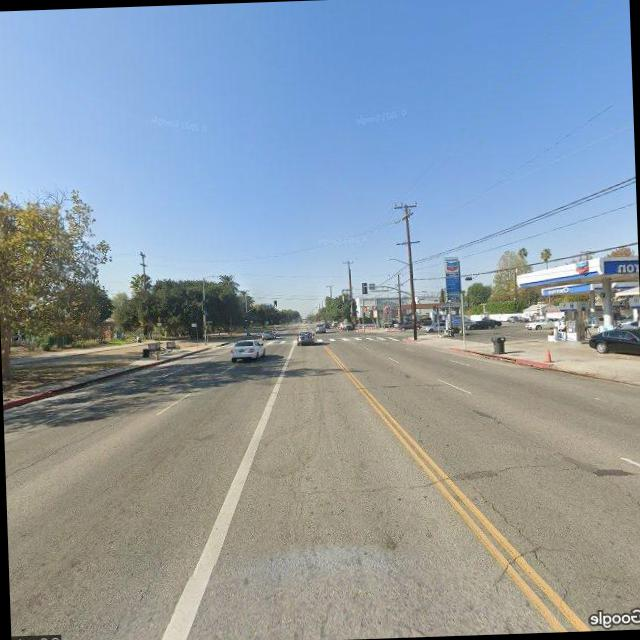crack: (314, 444, 617, 504), (461, 472, 574, 600), (466, 402, 524, 435)
